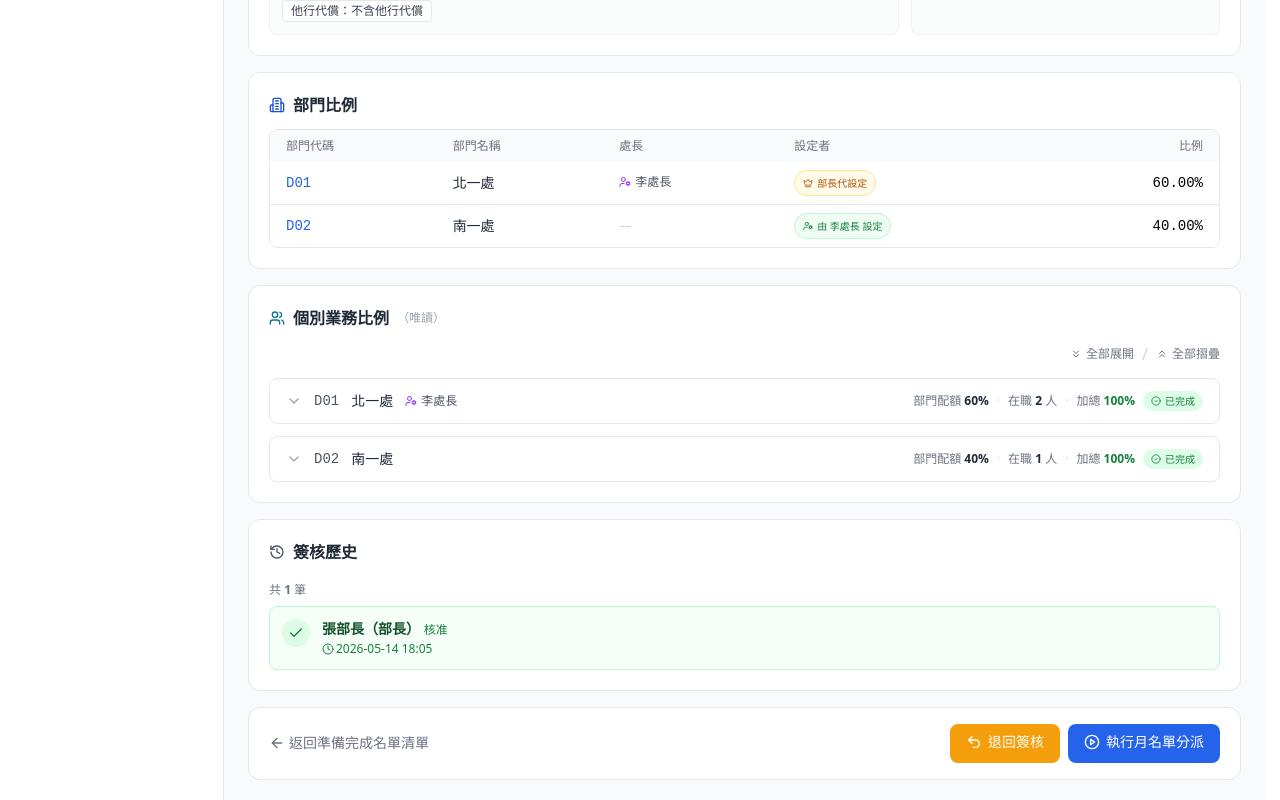
Test: ReadySummaryDetailPage (29d 模式 B) › 個別比例展開後：員工表含「名單分配占比」欄與離職 badge
This screenshot has width=1280, height=800.
(page scrolled)
D01 預設摺疊 → 展開
Click the button with test id "dept-accordion-header-D01". click: (372, 400)
box: top-left (270, 378), bottom-right (1219, 422)
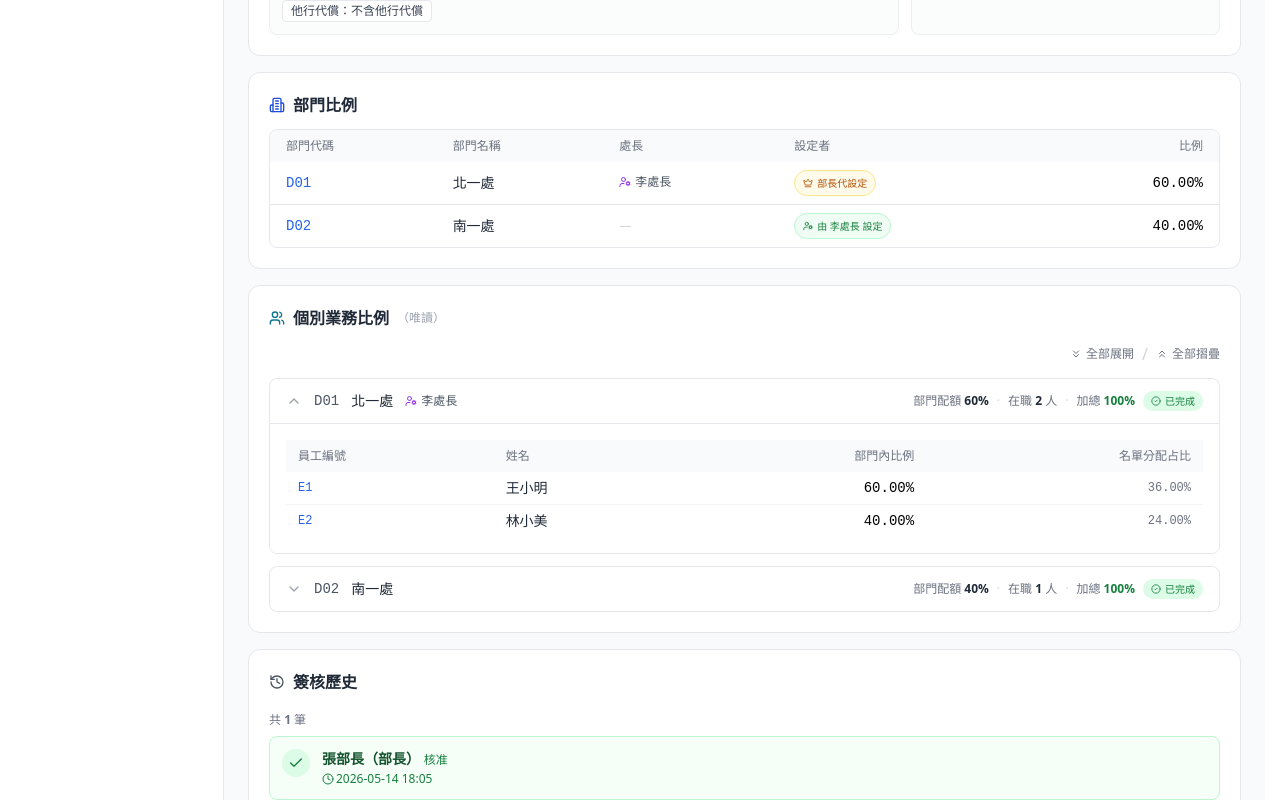
Now the column heading "名單分配占比" is shown, box top-left (926, 440), bottom-right (1203, 472)
Now the text "36.00%" is shown, box top-left (926, 472), bottom-right (1203, 504)
D02 含離職員工（潘秀英）→ 展開後顯示「離職」badge
Click the button with test id "dept-accordion-header-D02". click: (372, 588)
box: top-left (270, 566), bottom-right (1219, 610)
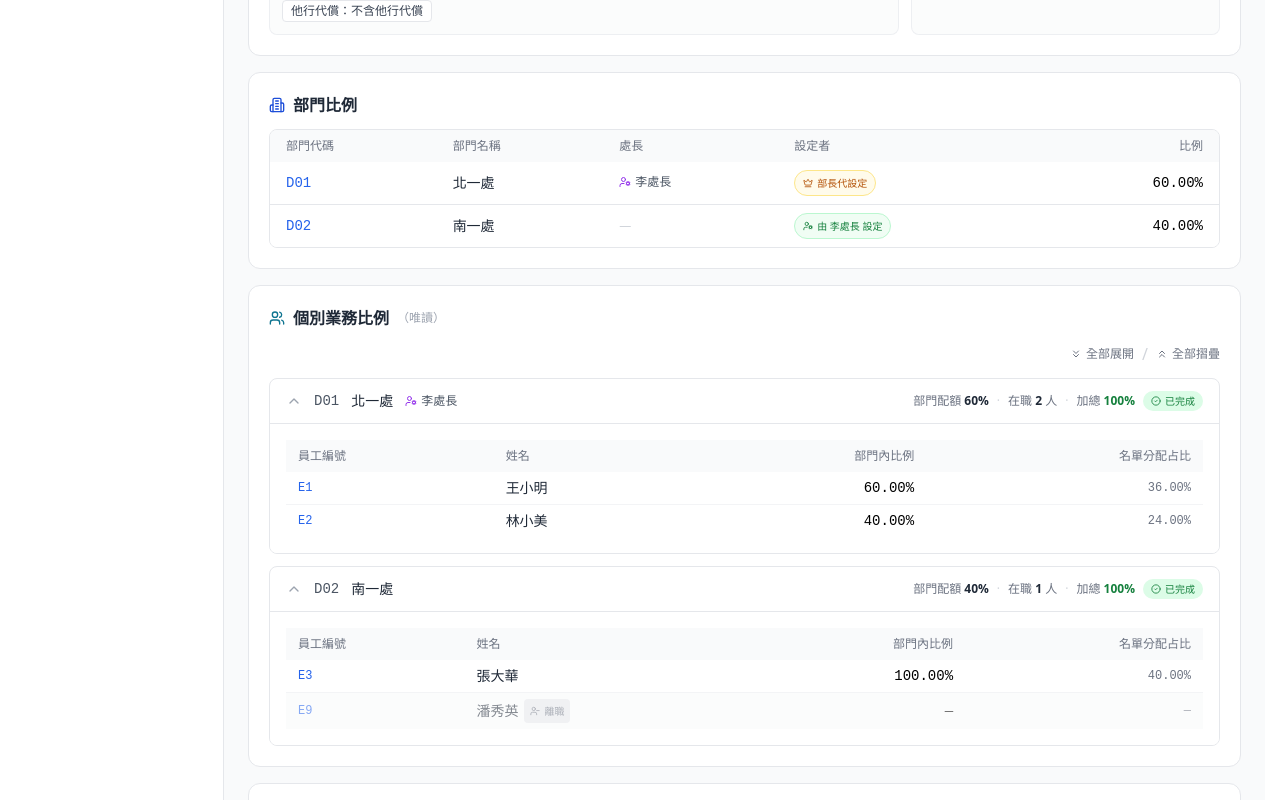
Now the text "潘秀英" is shown, box top-left (476, 700), bottom-right (518, 720)
Now the text "離職" is shown, box top-left (524, 698), bottom-right (570, 722)
